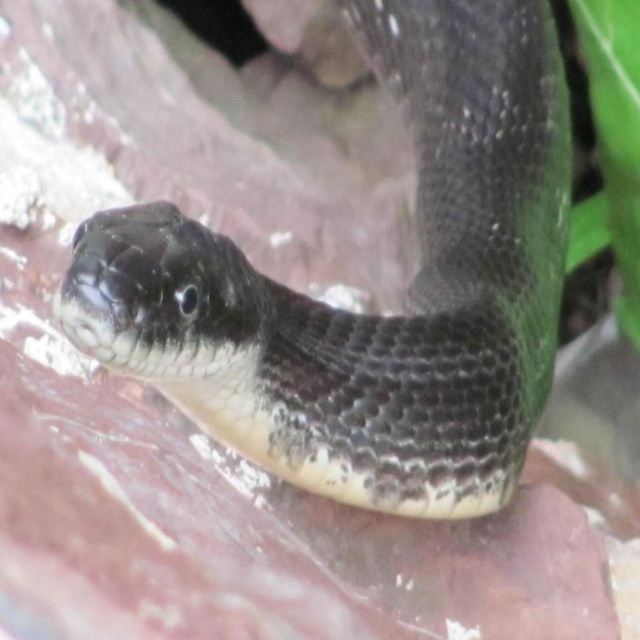Snake: (55, 0, 574, 519)
